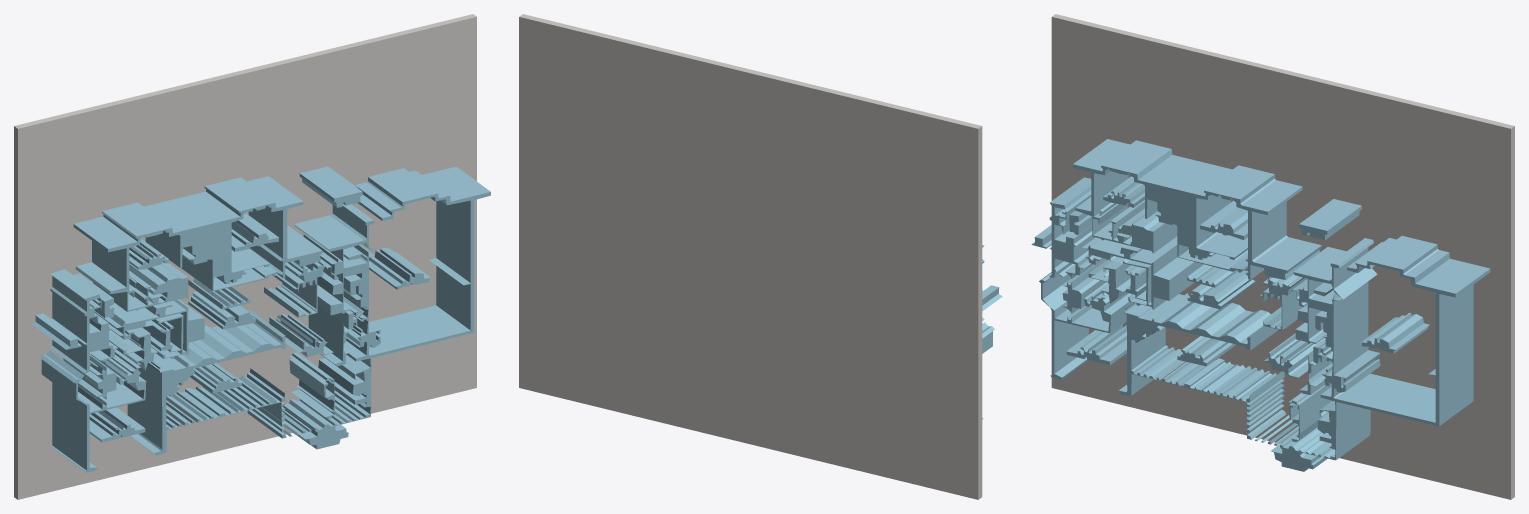
3 views of the same model, side by side, from view 1: azimuth 30°, elevation 25°; view 2: azimuth 150°, elevation 25°; view 3: azimuth 330°, elevation 25° (orthographic).
Visible parts, largest first — view 1: world; view 2: world; view 3: world.
Part boxes in pixels (left/top/right/bottom): world: left=14, top=14, right=490, bottom=499; world: left=519, top=14, right=1002, bottom=499; world: left=1031, top=14, right=1514, bottom=499.
Size of the model in its own units: 10.23 by 7.9 by 1.48.
